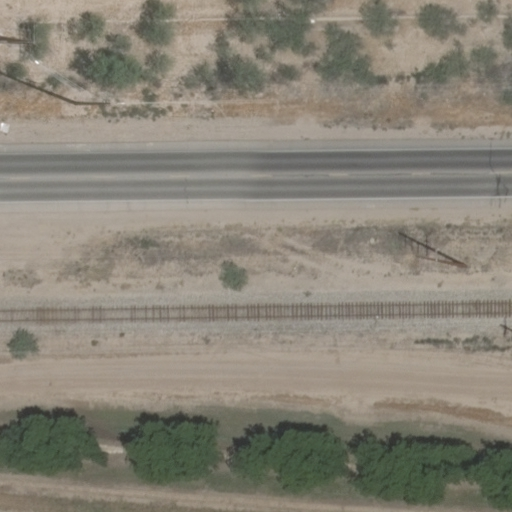DT: (454, 254, 480, 276)
